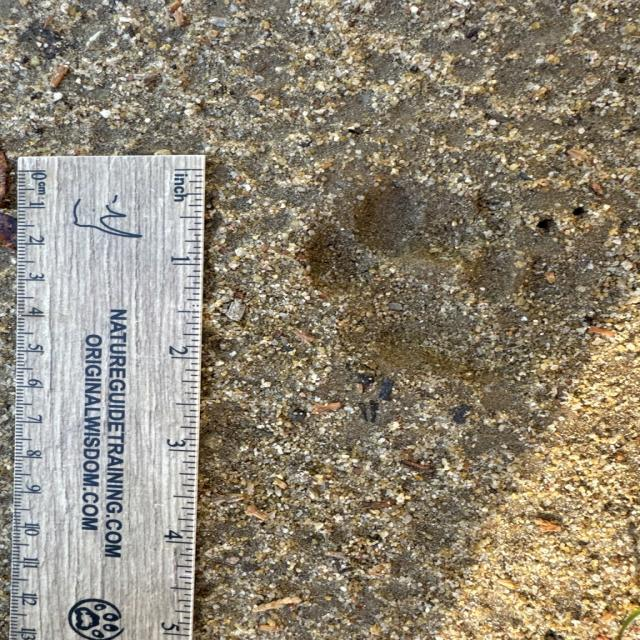felid: (313, 185, 517, 365)
